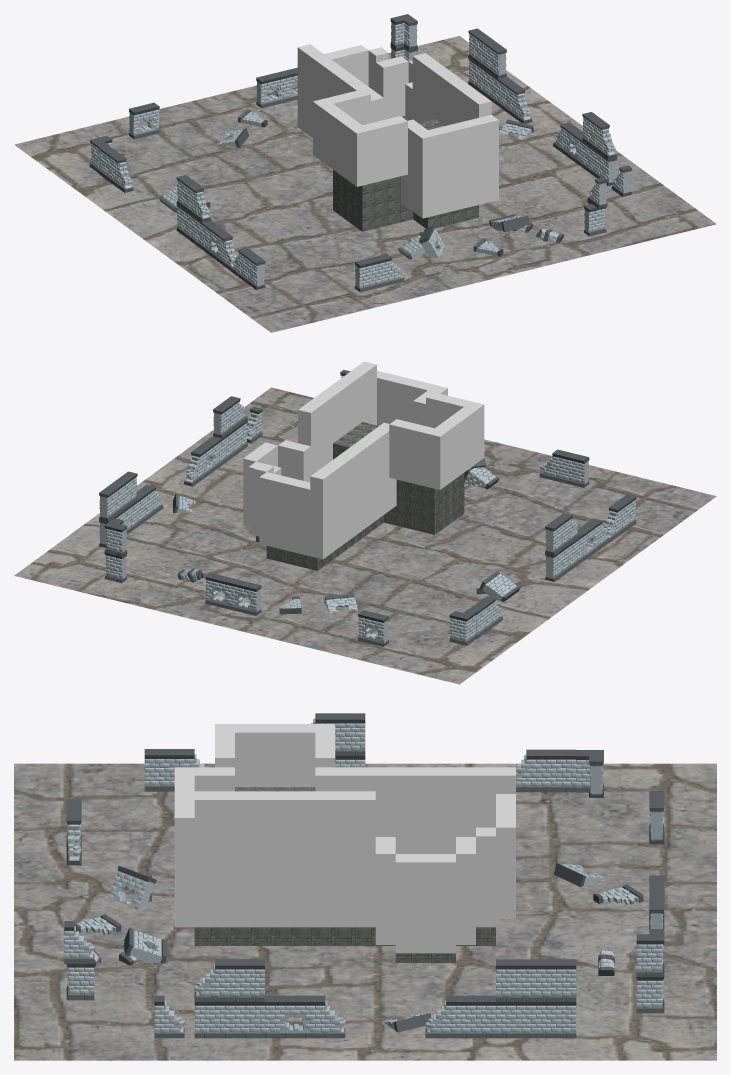
File: Stage.gltf
3 renders of one model, top to bottom at view 1: azimuth 30°, elevation 25°; view 2: azimuth 150°, elevation 25°; view 3: azimuth 270°, elevation 25°, orthographic. The views are drawn at different scales.
Visible parts, largest first — view 1: 仮地面, 透明壁.005, 透明壁.001, 透明壁.012, 透明壁.002, 透明壁.009, 透明壁.011, 透明壁.007, 透明壁.004, 透明壁.010, 壁.014, 壊れた壁.013 (+19 smaller); view 2: 仮地面, 透明壁.002, 透明壁.001, 透明壁.004, 透明壁.012, 透明壁.010, 透明壁.005, 透明壁.003, 透明壁.011, 壁.014, 透明壁.006, 壊れた壁.006 (+21 smaller); view 3: 仮地面, 透明壁.001, 透明壁.002, 透明壁.006, 透明壁.012, 透明壁.005, 透明壁.004, 透明壁.003, 透明壁.007, 透明壁.008, 壁.010, 壁.008 (+31 smaller).
Part boxes in pixels (x1,y1,x2,y2): 仮地面: (14, 36, 716, 332); 透明壁.005: (428, 114, 498, 215); 透明壁.001: (412, 53, 491, 125); 透明壁.012: (313, 98, 369, 186); 透明壁.002: (297, 44, 383, 137); 透明壁.009: (400, 119, 435, 218); 透明壁.011: (362, 116, 407, 183); 透明壁.007: (376, 56, 408, 119); 透明壁.004: (324, 45, 368, 86); 透明壁.010: (326, 89, 370, 124); 壁.014: (354, 255, 385, 292); 壊れた壁.013: (256, 71, 286, 108); 仮地面: (14, 387, 716, 684); 透明壁.002: (310, 422, 396, 559); 透明壁.001: (298, 361, 376, 475); 透明壁.004: (259, 472, 310, 555); 透明壁.012: (427, 401, 484, 489); 透明壁.010: (389, 419, 434, 486); 透明壁.005: (377, 370, 434, 425); 透明壁.003: (278, 440, 310, 482); 透明壁.011: (426, 392, 471, 428); 壁.014: (558, 451, 589, 487); 透明壁.006: (243, 442, 277, 526); 壊れた壁.006: (358, 610, 388, 646); 仮地面: (14, 763, 716, 1060); 透明壁.001: (194, 791, 375, 927); 透明壁.002: (315, 767, 515, 853); 透明壁.006: (395, 854, 455, 953); 透明壁.012: (215, 724, 335, 787); 透明壁.005: (174, 775, 194, 927); 透明壁.004: (496, 794, 515, 918); 透明壁.003: (375, 837, 395, 944); 透明壁.007: (456, 837, 475, 944); 透明壁.008: (476, 827, 495, 927); 壁.010: (536, 749, 576, 792); 壁.008: (536, 959, 576, 1001).
Bounding box in the file's own units: 70 × 18.81 × 70.
48 materials, 37 textured.
